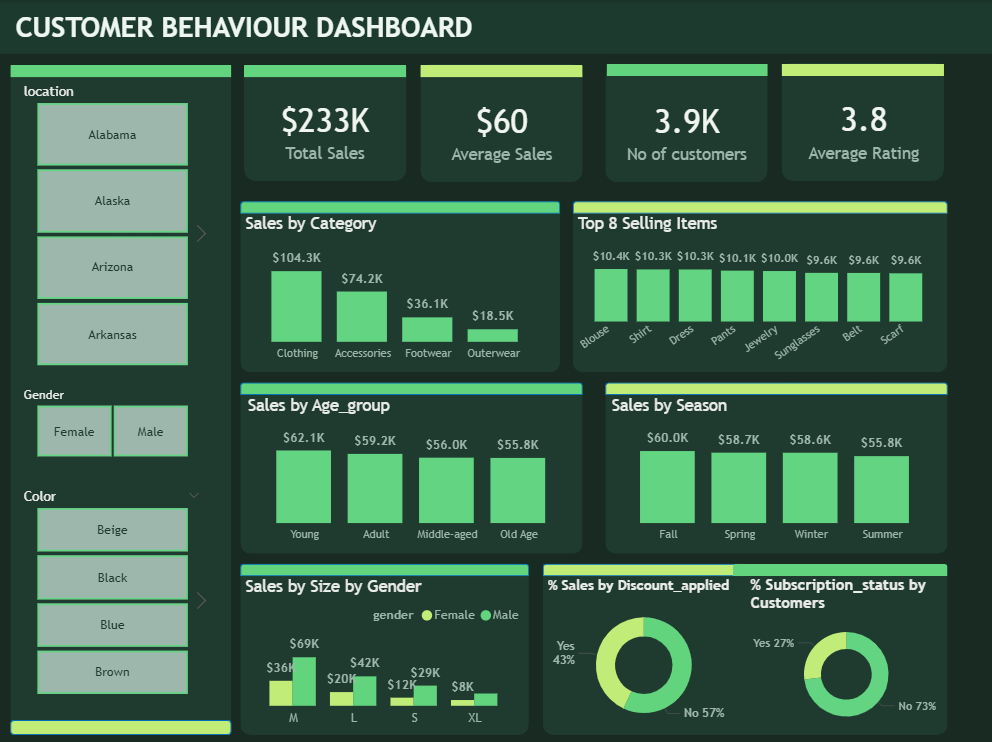

The page's visual inventory and layout, read from the dashboard file:
{"tool":"powerbi","page":{"name":"SUMMARY","canvas":[960,720],"ordinal":0},"visuals":[{"type":"shape","box":[406.6,61.5,156.8,114.6],"z":0},{"type":"shape","box":[0,0,960.3,51.9],"z":1000},{"type":"shape","box":[585.1,61.5,156.8,114.6],"z":2000},{"type":"shape","box":[10.9,62.7,213.5,646.7],"z":3000},{"type":"shape","box":[232.8,194.2,308.8,165.3],"z":4000},{"type":"shape","box":[232.8,369.2,330.6,165.3],"z":5000},{"type":"shape","box":[232.8,544.1,278.7,165.3],"z":6000},{"type":"shape","box":[553.8,194.2,361.9,165.3],"z":7000},{"type":"shape","box":[585.1,369.2,330.6,165.3],"z":8000},{"type":"shape","box":[524.8,544.1,390.9,165.3],"z":9000},{"type":"shape","box":[406.6,62.7,156.8,12.1],"z":10000},{"type":"shape","box":[586.3,61.5,155.6,12.1],"z":11000},{"type":"shape","box":[232.8,194.2,308.8,12.1],"z":12000},{"type":"shape","box":[553.8,194.2,361.9,12.1],"z":13000},{"type":"shape","box":[232.8,369.2,330.6,12.1],"z":14000},{"type":"shape","box":[232.8,544.1,278.7,12.1],"z":15000},{"type":"shape","box":[524.8,544.1,195.4,12.1],"z":16000},{"type":"shape","box":[585.1,369.2,330.6,12.1],"z":17000},{"type":"shape","box":[10.9,62.7,213.5,12.1],"z":18000},{"type":"shape","box":[10.9,694.9,213.5,14.5],"z":19000},{"type":"textbox","box":[10.9,6,915.7,45.8],"z":20000},{"type":"card","fields":{"Values":["Count(Customer_shopping_behaviour.customer_id)"]},"box":[586.3,74.8,155.6,101.3],"z":21000},{"type":"donutChart","title":"% Subscription_status by Customers","fields":{"Y":["CountNonNull(Customer_shopping_behaviour.subscription_status)"],"Category":["Customer_shopping_behaviour.subscription_status"]},"box":[720.2,556.2,195.4,153.2],"z":22000},{"type":"clusteredColumnChart","title":"Sales by Size by Gender","fields":{"Y":["Sum(Customer_shopping_behaviour.purchase_amount)"],"Category":["Customer_shopping_behaviour.size"],"Series":["Customer_shopping_behaviour.gender"]},"box":[232.8,556.2,278.7,153.2],"z":23000},{"type":"clusteredColumnChart","title":"Sales by Category","fields":{"Y":["Sum(Customer_shopping_behaviour.purchase_amount)"],"Category":["Customer_shopping_behaviour.category"]},"box":[232.8,206.3,300.4,150.8],"z":24000},{"type":"clusteredColumnChart","title":"Sales by Age_group","fields":{"Y":["Sum(Customer_shopping_behaviour.purchase_amount)"],"Category":["Customer_shopping_behaviour.age_group"]},"box":[235.3,381.2,326.9,150.8],"z":25000},{"type":"shape","box":[236.5,62.7,156.8,112.2],"z":26000},{"type":"clusteredColumnChart","title":"Sales by Season","fields":{"Y":["Sum(Customer_shopping_behaviour.purchase_amount)"],"Category":["Customer_shopping_behaviour.season"]},"box":[586.3,381.2,326.9,150.8],"z":27000},{"type":"shape","box":[236.5,62.7,156.8,12.1],"z":28000},{"type":"shape","box":[755.3,59.9,156.8,114.6],"z":29000},{"type":"shape","box":[755.3,61.2,156.8,12.1],"z":30000},{"type":"card","fields":{"Values":["Customer_shopping_behaviour.AVG Purchase Amount"]},"box":[407.8,74.8,155.6,101.3],"z":31000},{"type":"card","fields":{"Values":["Sum(Customer_shopping_behaviour.purchase_amount)"]},"box":[236.5,74.8,156.8,100.1],"z":32000},{"type":"card","fields":{"Values":["Customer_shopping_behaviour.AVG Review Rating"]},"box":[757.6,73.6,154.4,101.3],"z":33000},{"type":"donutChart","title":"% Sales by Discount_applied ","fields":{"Y":["CountNonNull(Customer_shopping_behaviour.subscription_status)"],"Category":["Customer_shopping_behaviour.discount_applied"]},"box":[524.8,556.2,195.4,153.2],"z":34000},{"type":"shape","box":[708.2,544.1,207.5,12.1],"z":35000},{"type":"clusteredColumnChart","title":"Top 8 Selling Items","fields":{"Y":["Sum(Customer_shopping_behaviour.purchase_amount)"],"Category":["Customer_shopping_behaviour.item_purchased"]},"box":[553.8,206.3,359.5,153.2],"z":36000},{"type":"slicer","fields":{"Values":["Customer_shopping_behaviour.location"]},"box":[10.9,74.8,195.4,284.7],"z":37000},{"type":"slicer","title":"Gender","fields":{"Values":["Customer_shopping_behaviour.gender"]},"box":[10.9,369.2,195.4,78.4],"z":38000},{"type":"slicer","title":"Gender","fields":{"Values":["Customer_shopping_behaviour.color"]},"box":[10.9,465.7,195.4,211.1],"z":39000}]}

Visuals, with their boxes in screenshot pixels (x1, y1, x2, y2), scaled from the page's 960x720 canvas onto the 992x742 screenshot:
shape: locate(420, 63, 582, 181)
shape: locate(0, 0, 991, 53)
shape: locate(605, 63, 767, 181)
shape: locate(11, 65, 232, 731)
shape: locate(241, 200, 560, 370)
shape: locate(241, 380, 582, 551)
shape: locate(241, 561, 529, 731)
shape: locate(572, 200, 946, 370)
shape: locate(605, 380, 946, 551)
shape: locate(542, 561, 946, 731)
shape: locate(420, 65, 582, 77)
shape: locate(606, 63, 767, 76)
shape: locate(241, 200, 560, 213)
shape: locate(572, 200, 946, 213)
shape: locate(241, 380, 582, 393)
shape: locate(241, 561, 529, 573)
shape: locate(542, 561, 744, 573)
shape: locate(605, 380, 946, 393)
shape: locate(11, 65, 232, 77)
shape: locate(11, 716, 232, 731)
textbox: locate(11, 6, 957, 53)
card - Count(Customer_shopping_behaviour.customer_id): locate(606, 77, 767, 181)
"% Subscription_status by Customers" donutChart: locate(744, 573, 946, 731)
"Sales by Size by Gender" clusteredColumnChart: locate(241, 573, 529, 731)
"Sales by Category" clusteredColumnChart: locate(241, 213, 551, 368)
"Sales by Age_group" clusteredColumnChart: locate(243, 393, 581, 548)
shape: locate(244, 65, 406, 180)
"Sales by Season" clusteredColumnChart: locate(606, 393, 944, 548)
shape: locate(244, 65, 406, 77)
shape: locate(780, 62, 943, 180)
shape: locate(780, 63, 943, 76)
card - Customer_shopping_behaviour.AVG Purchase Amount: locate(421, 77, 582, 181)
card - Sum(Customer_shopping_behaviour.purchase_amount): locate(244, 77, 406, 180)
card - Customer_shopping_behaviour.AVG Review Rating: locate(783, 76, 942, 180)
"% Sales by Discount_applied " donutChart: locate(542, 573, 744, 731)
shape: locate(732, 561, 946, 573)
"Top 8 Selling Items" clusteredColumnChart: locate(572, 213, 944, 370)
slicer - Customer_shopping_behaviour.location: locate(11, 77, 213, 370)
"Gender" slicer: locate(11, 380, 213, 461)
"Gender" slicer: locate(11, 480, 213, 697)
